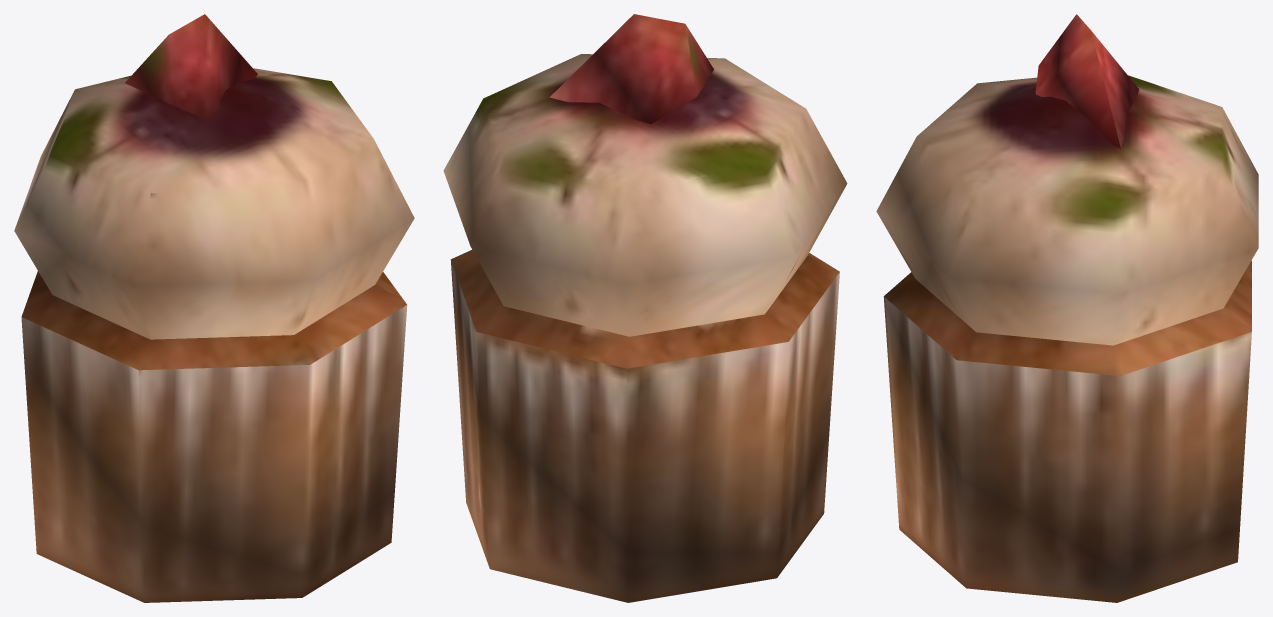
Rendered from Cupcake.dae.
3 renders of one model, left to right at view 1: azimuth 30°, elevation 25°; view 2: azimuth 150°, elevation 25°; view 3: azimuth 270°, elevation 25°, orthographic. The views are drawn at different scales.
Parts seen in each view (by area): view 1: Cupcake; view 2: Cupcake; view 3: Cupcake.
Part boxes in pixels (x1,y1,x2,y2): Cupcake: (14,14,414,602); Cupcake: (443,14,847,602); Cupcake: (876,14,1258,602).
Bounding box in the file's own units: 0.087 × 0.0848 × 0.1224.
1 material, 1 textured.
